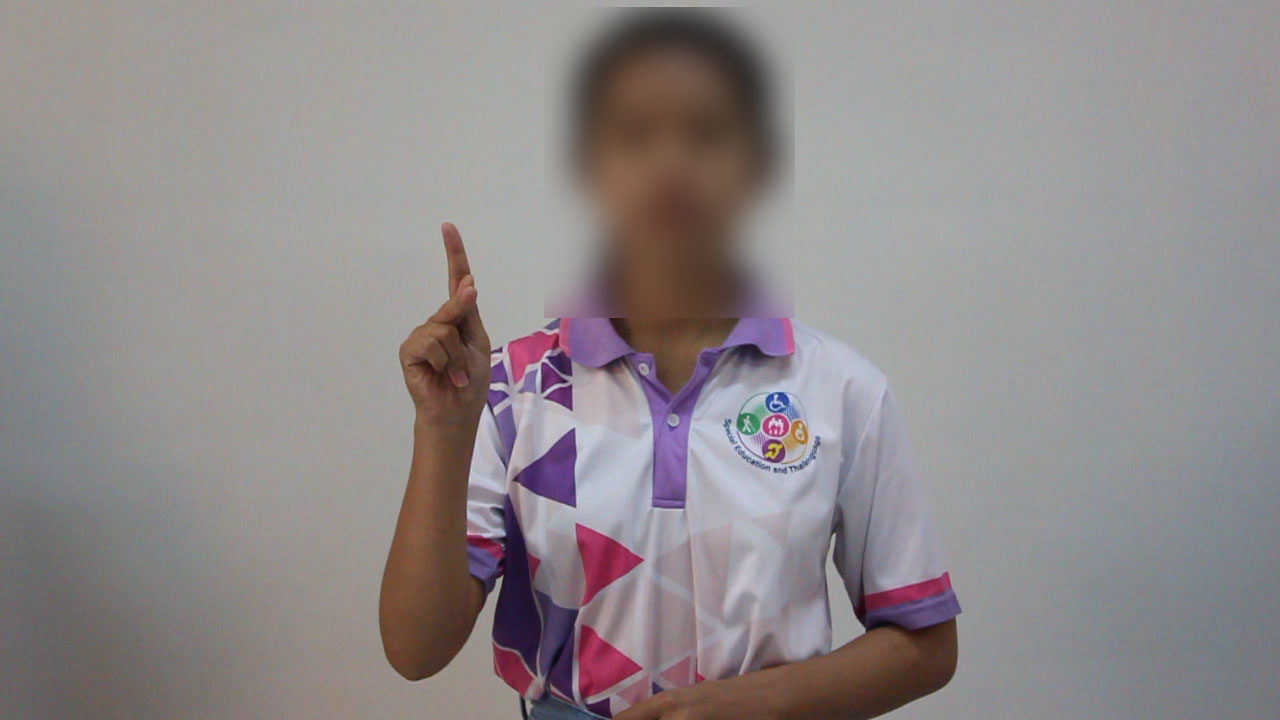ko: (380, 215, 505, 416)
